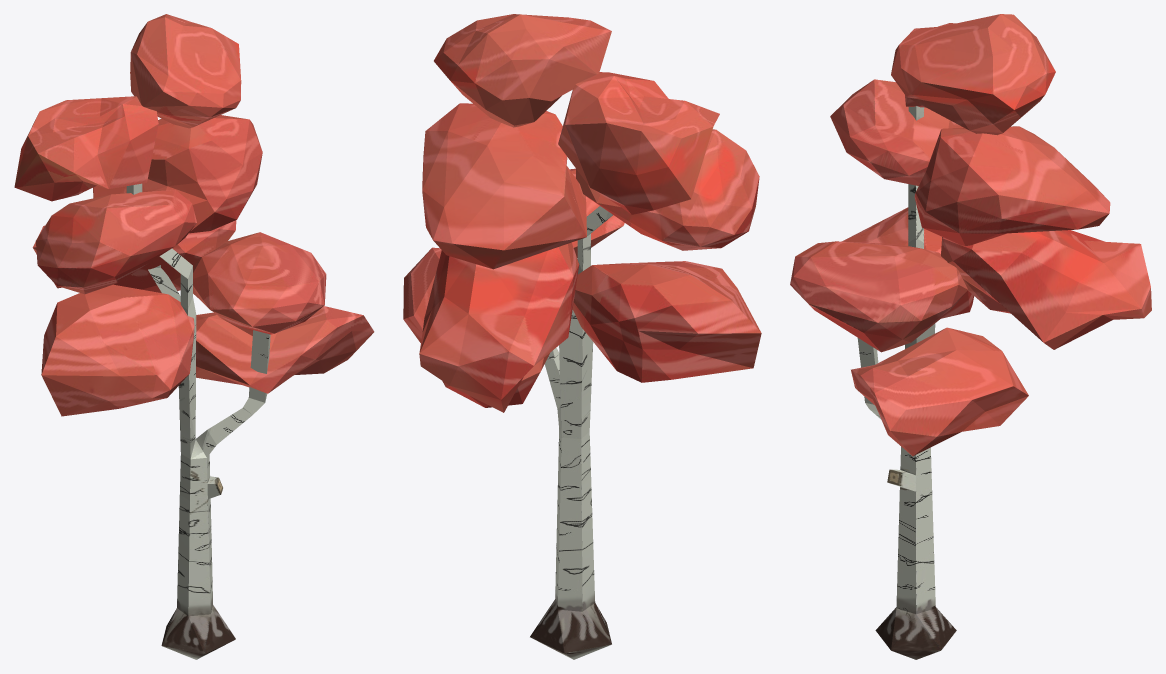
Rendered from Tree 3.glb.
3 views of the same model, side by side, from view 1: azimuth 30°, elevation 25°; view 2: azimuth 150°, elevation 25°; view 3: azimuth 270°, elevation 25° (orthographic). The views are drawn at different scales.
Parts seen in each view (by area): view 1: Icosphere.001; view 2: Icosphere.001; view 3: Icosphere.001.
Part boxes in pixels (x1,y1,x2,y2): Icosphere.001: [14, 14, 374, 659]; Icosphere.001: [403, 14, 761, 659]; Icosphere.001: [790, 14, 1151, 659].
Bounding box in the file's own units: 14.43 × 25.66 × 12.94.
Materials: 1 (1 with a texture image).
